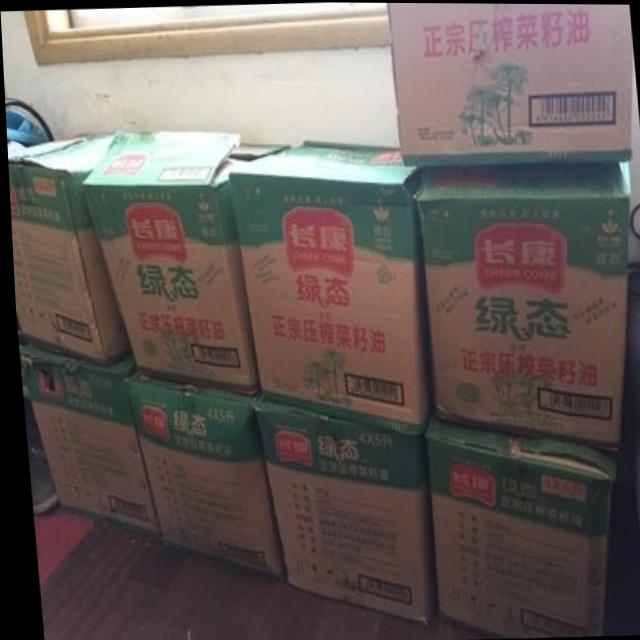box: (225, 137, 431, 438), (413, 158, 628, 444), (82, 128, 286, 391), (248, 394, 431, 623), (419, 417, 613, 633), (387, 2, 631, 161), (123, 369, 283, 580), (6, 128, 128, 367), (15, 332, 153, 535)
